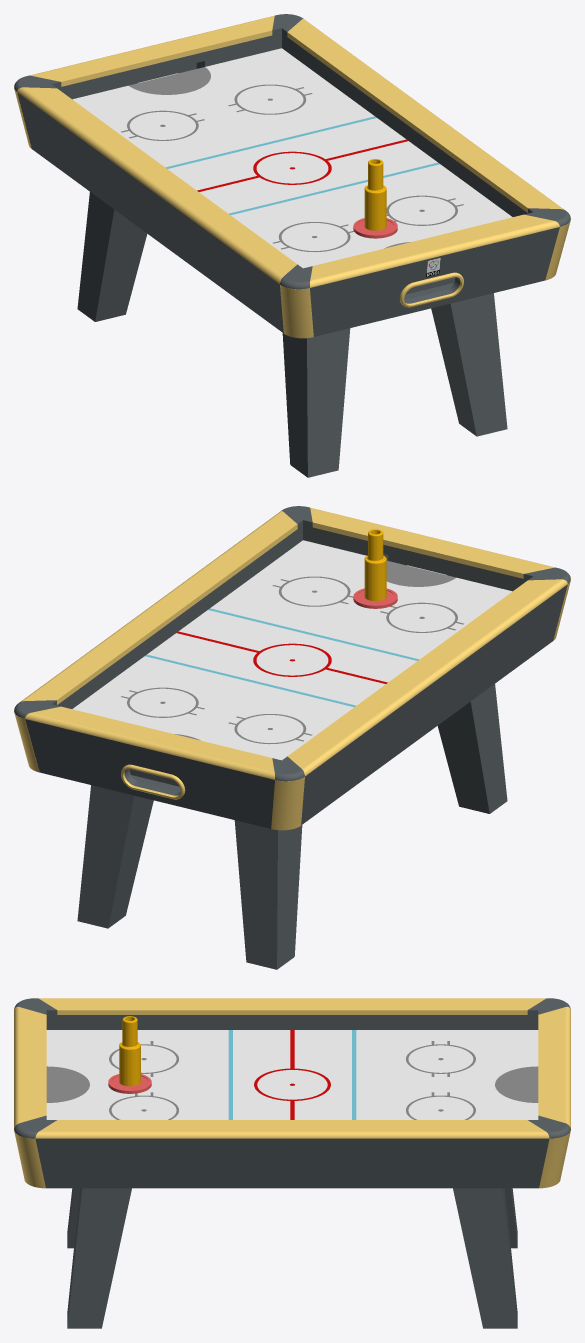
The model's file is Airhockey.glb.
3 views of the same model, one above another, from view 1: azimuth 30°, elevation 25°; view 2: azimuth 150°, elevation 25°; view 3: azimuth 270°, elevation 25° (orthographic). The views are drawn at different scales.
Parts seen in each view (by area): view 1: Leghoki_LeghokiPalya, Leghoki_FelfestesFeher.003, Leghoki_FelsoPeremHosszu.003, Leghoki_FelsoPeremHosszu_1.002, Leghoki_FelsoPeremRovid_1.002, Leghoki_FelsoPeremRovid.002, Leghoki_FelfestesKapu.002, Leghoki_SarokVedo.002, node2, Leghoki_FelfestesKek.002, Leghoki_FelfestesPiros.002, Leghoki_KiadoKontur.002; view 2: Leghoki_LeghokiPalya, Leghoki_FelfestesFeher.003, Leghoki_FelsoPeremHosszu.003, Leghoki_FelsoPeremHosszu_1.002, Leghoki_FelsoPeremRovid.002, Leghoki_FelsoPeremRovid_1.002, Leghoki_FelfestesKapu.002, Leghoki_SarokVedo_3.002, node2, Leghoki_FelfestesKek.002, Leghoki_FelfestesPiros.002, Leghoki_KiadoKontur_1.002; view 3: Leghoki_LeghokiPalya, Leghoki_FelfestesFeher.003, Leghoki_FelsoPeremHosszu_1.002, Leghoki_FelsoPeremHosszu.003, Leghoki_FelfestesKapu.002, Leghoki_FelsoPeremRovid_1.002, Leghoki_FelsoPeremRovid.002, node2, Leghoki_SarokVedo_2.002, Leghoki_SarokVedo_1.002, Leghoki_FelfestesKek.002, Leghoki_FelfestesPiros.002 (+1 smaller).
Part boxes in pixels (box(x1,y1,x2,y2)): Leghoki_LeghokiPalya: box(14, 14, 570, 477); Leghoki_FelfestesFeher.003: box(72, 48, 512, 268); Leghoki_FelsoPeremHosszu.003: box(17, 87, 297, 284); Leghoki_FelsoPeremHosszu_1.002: box(287, 19, 564, 212); Leghoki_FelsoPeremRovid_1.002: box(310, 214, 559, 287); Leghoki_FelsoPeremRovid.002: box(29, 15, 274, 86); Leghoki_FelfestesKapu.002: box(121, 67, 463, 252); Leghoki_SarokVedo.002: box(280, 285, 313, 338); node2: box(364, 159, 386, 230); Leghoki_FelfestesKek.002: box(165, 116, 439, 215); Leghoki_FelfestesPiros.002: box(197, 139, 407, 191); Leghoki_KiadoKontur.002: box(399, 272, 463, 307); Leghoki_LeghokiPalya: box(14, 506, 570, 969); Leghoki_FelfestesFeher.003: box(72, 540, 512, 760); Leghoki_FelsoPeremHosszu.003: box(287, 579, 567, 776); Leghoki_FelsoPeremHosszu_1.002: box(20, 511, 297, 704); Leghoki_FelsoPeremRovid.002: box(25, 706, 274, 779); Leghoki_FelsoPeremRovid_1.002: box(310, 507, 555, 578); Leghoki_FelfestesKapu.002: box(121, 560, 463, 744); Leghoki_SarokVedo_3.002: box(271, 777, 304, 830); node2: box(364, 529, 386, 601); Leghoki_FelfestesKek.002: box(145, 608, 419, 707); Leghoki_FelfestesPiros.002: box(177, 631, 387, 683); Leghoki_KiadoKontur_1.002: box(121, 764, 185, 799); Leghoki_LeghokiPalya: box(14, 998, 570, 1328); Leghoki_FelfestesFeher.003: box(46, 1030, 538, 1119); Leghoki_FelsoPeremHosszu_1.002: box(35, 1120, 549, 1138); Leghoki_FelsoPeremHosszu.003: box(38, 998, 546, 1014); Leghoki_FelfestesKapu.002: box(46, 1041, 538, 1119); Leghoki_FelsoPeremRovid_1.002: box(14, 1006, 46, 1128); Leghoki_FelsoPeremRovid.002: box(538, 1006, 570, 1128); node2: box(119, 1016, 140, 1086); Leghoki_SarokVedo_2.002: box(14, 1130, 45, 1188); Leghoki_SarokVedo_1.002: box(539, 1130, 570, 1188); Leghoki_FelfestesKek.002: box(228, 1030, 356, 1119); Leghoki_FelfestesPiros.002: box(254, 1030, 330, 1119).
Size of the model in its own units: 0.3002 by 0.267 by 0.5142.
20 materials, 1 textured.
